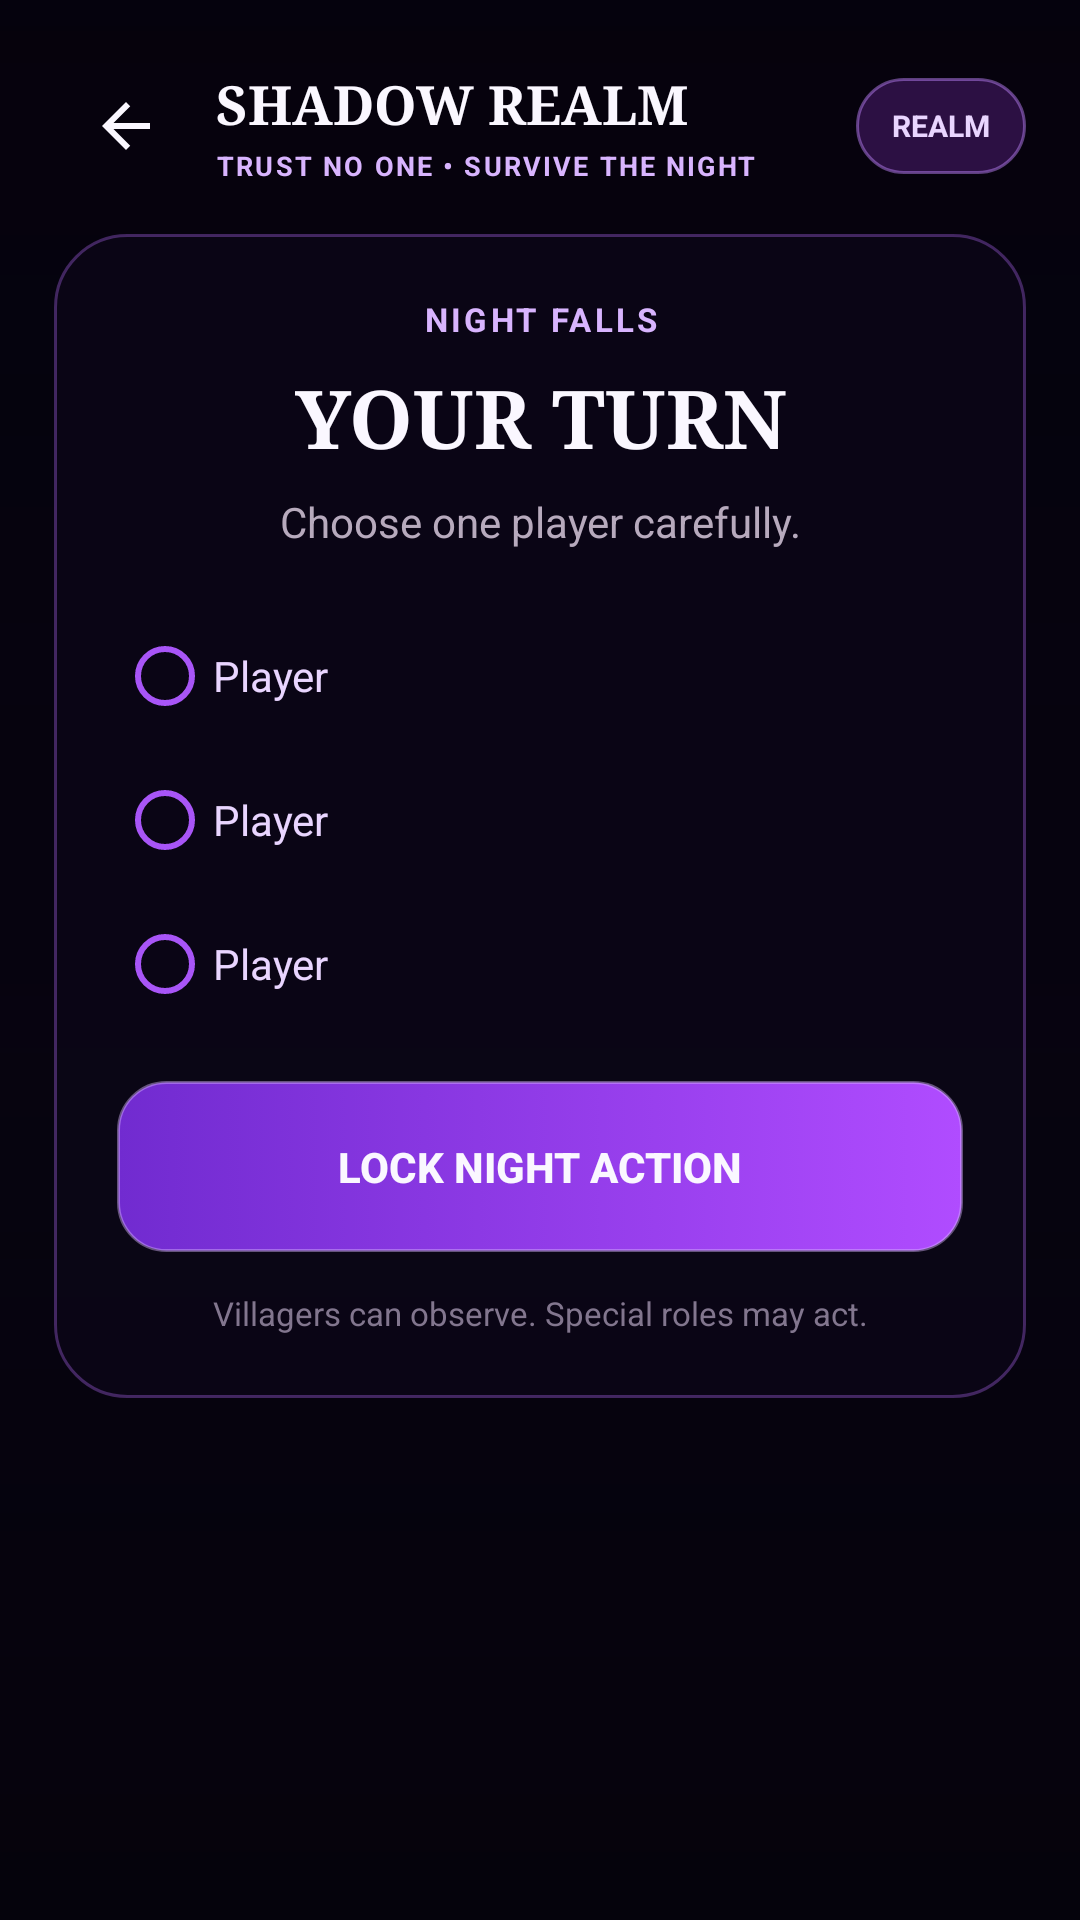

Point at icon controls on the screen. Image size 1080 × 1920, points as (x=x, y=y).
Back: (x=126, y=126)
